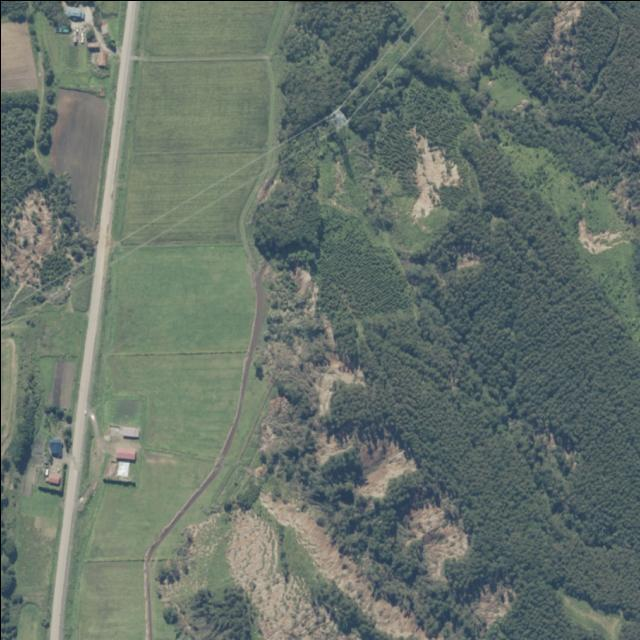landslide: (258, 492, 428, 640), (225, 509, 359, 640)
